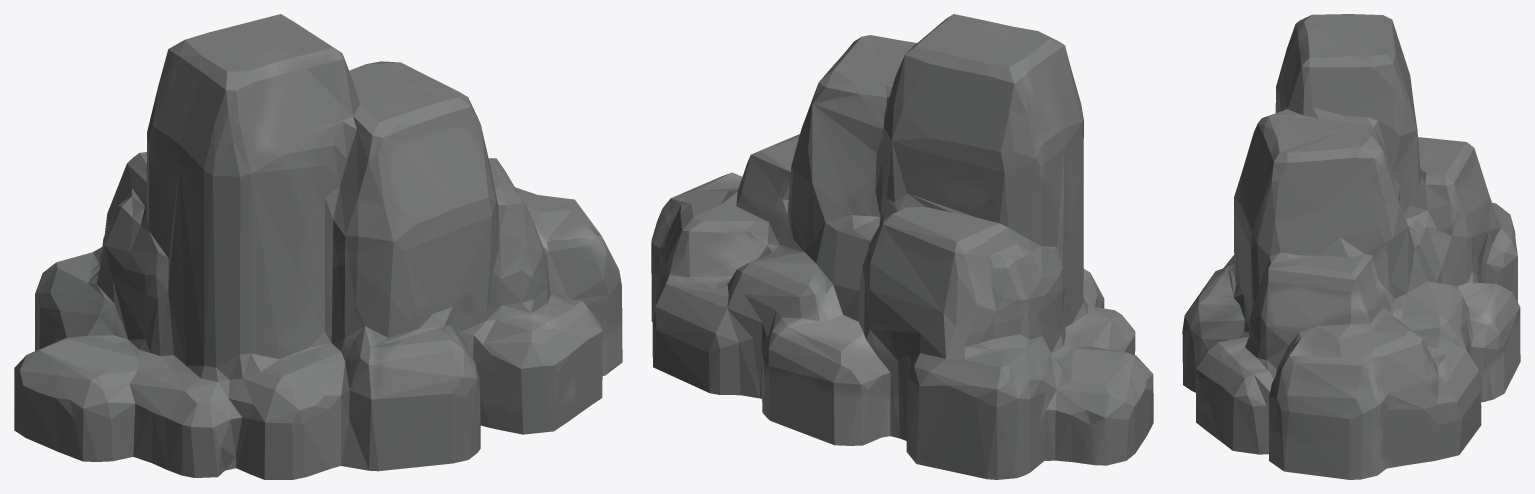
The model's file is rock0.glb.
3 renders of one model, left to right at view 1: azimuth 30°, elevation 25°; view 2: azimuth 150°, elevation 25°; view 3: azimuth 270°, elevation 25°, orthographic. The views are drawn at different scales.
Parts seen in each view (by area): view 1: geometry_0; view 2: geometry_0; view 3: geometry_0.
Part boxes in pixels (box(x1,y1,x2,y2)): geometry_0: box(14, 14, 622, 479); geometry_0: box(651, 14, 1153, 479); geometry_0: box(1182, 14, 1520, 479).
Bounding box in the file's own units: 2.51 × 1.62 × 1.63.
1 material, 1 textured.
